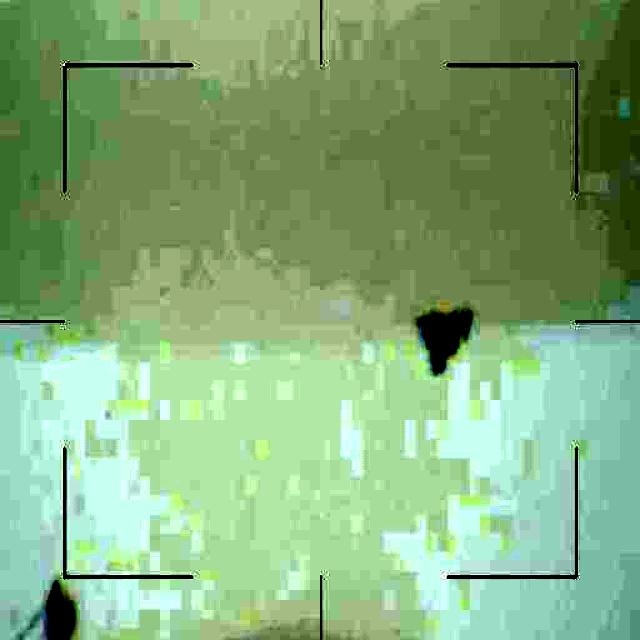bird: (411, 308, 486, 372)
